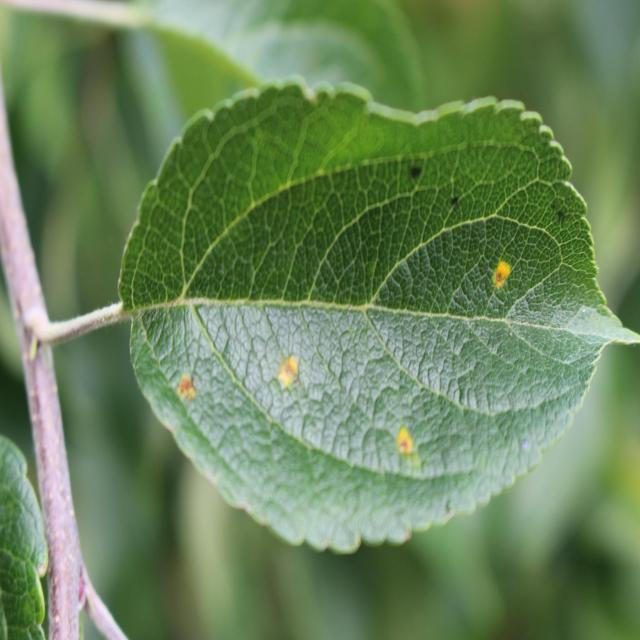Rust: (166, 362, 211, 426), (392, 410, 423, 479), (272, 344, 299, 415), (482, 252, 515, 297)
